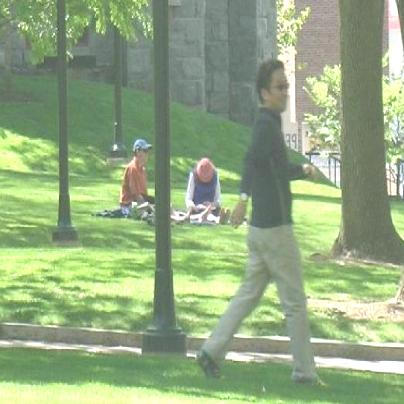ped: (197, 58, 328, 388)
